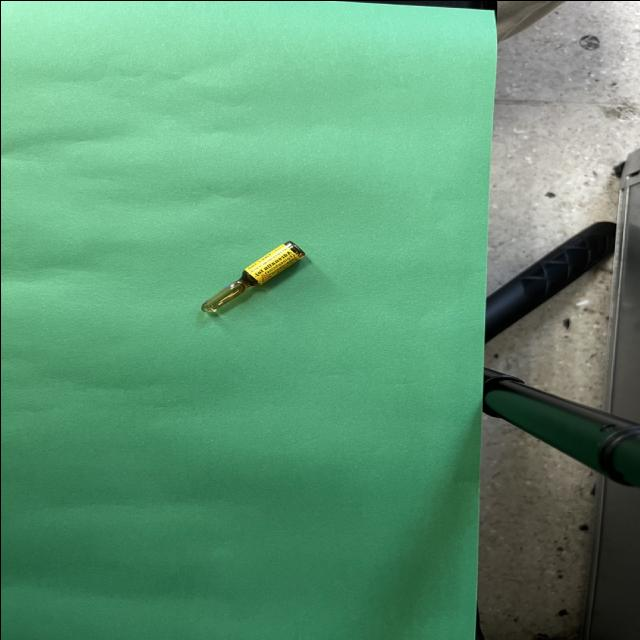Ampoules: (201, 240, 304, 310)
